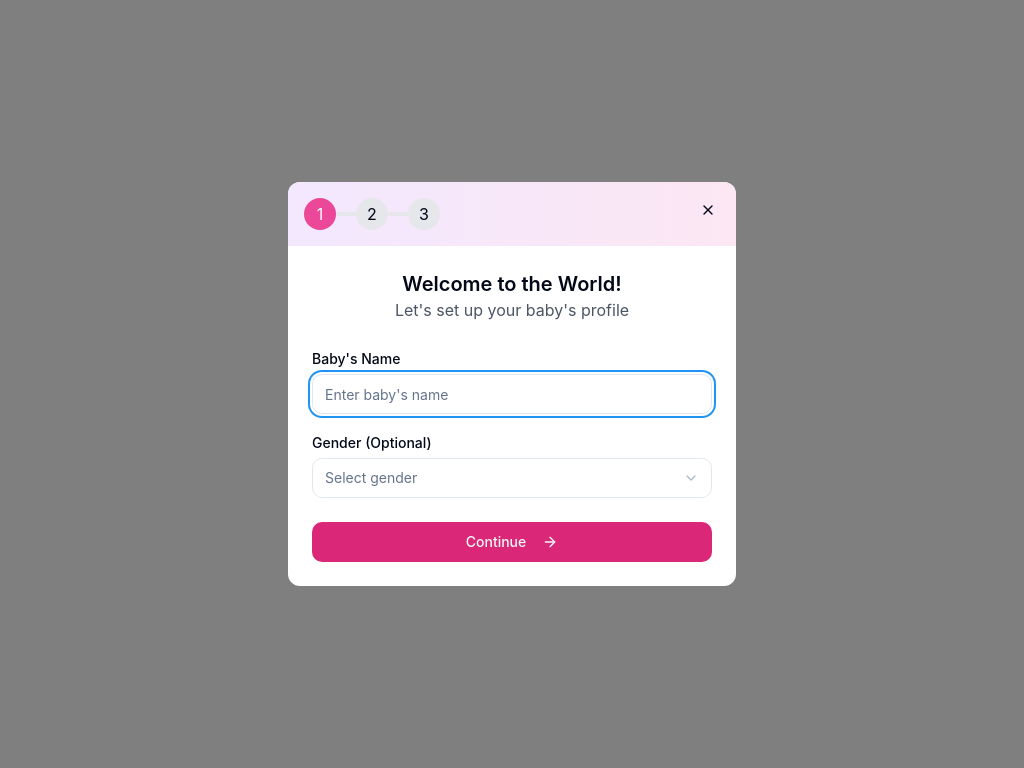
BirthTransition component - Full User Journey › can go back from step 2 to step 1
// Enter baby name and proceed to step 2
In the field labelled "Baby's Name": point(512, 394) [312, 374, 712, 414], type "Test Baby"
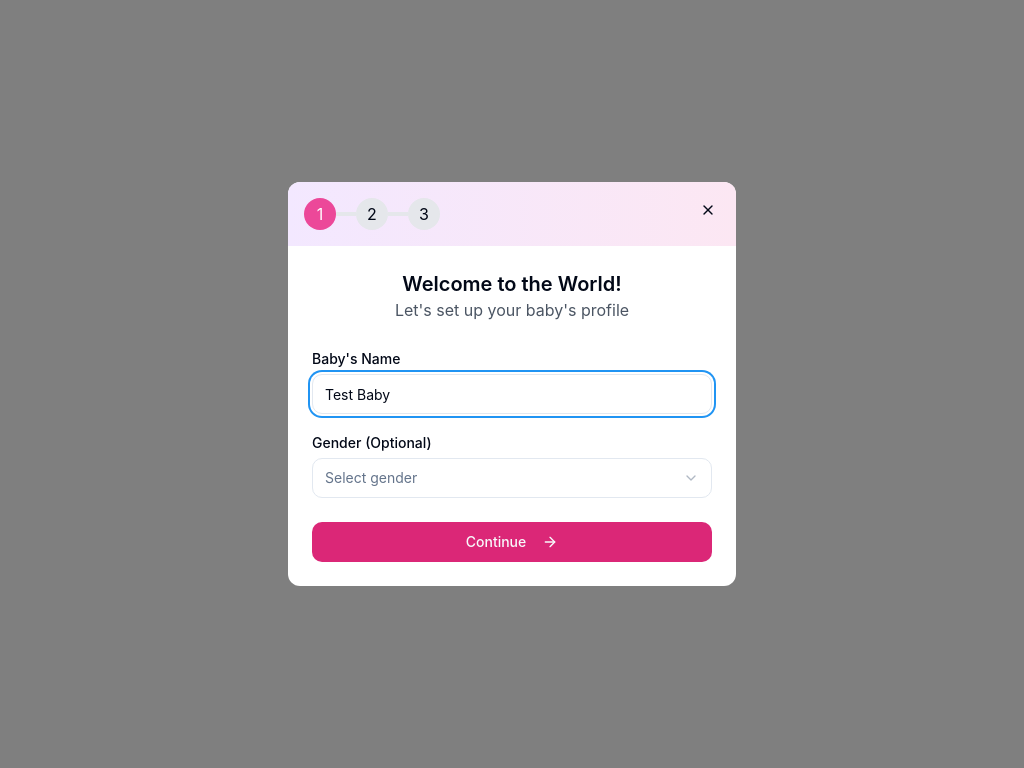
Click the button "Continue": point(512, 542) [312, 522, 712, 562]
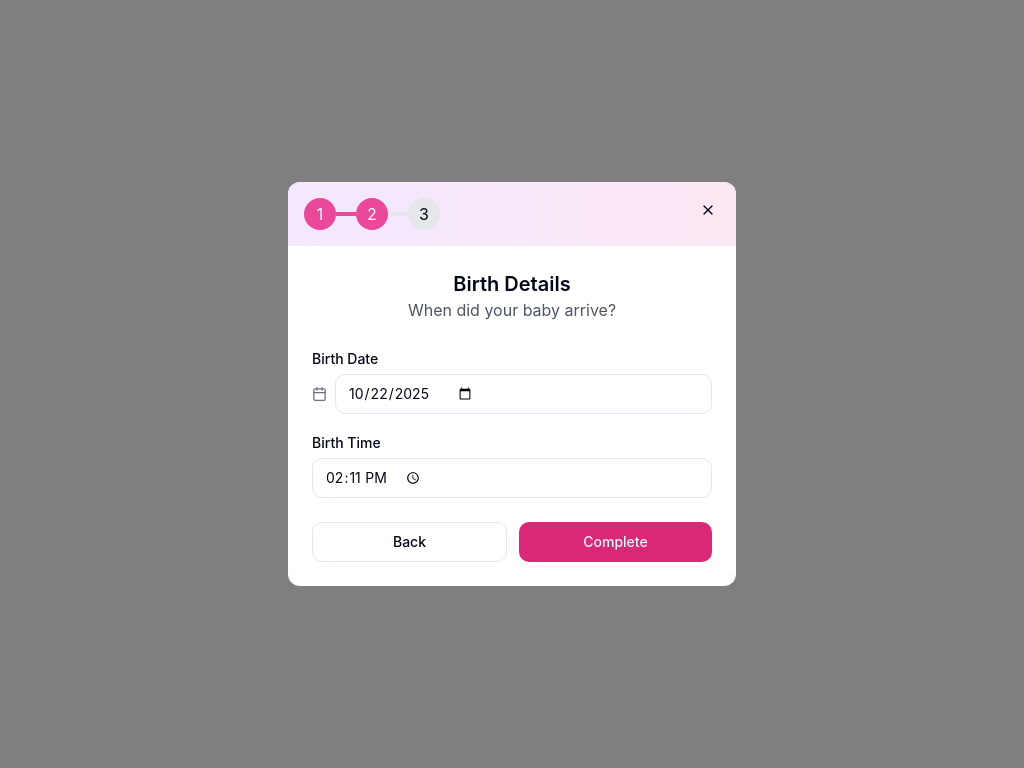
Expected: the heading "Birth Details" is shown, [453, 272, 571, 296]
// Click back
Click the button "Back": point(410, 542) [312, 522, 507, 562]
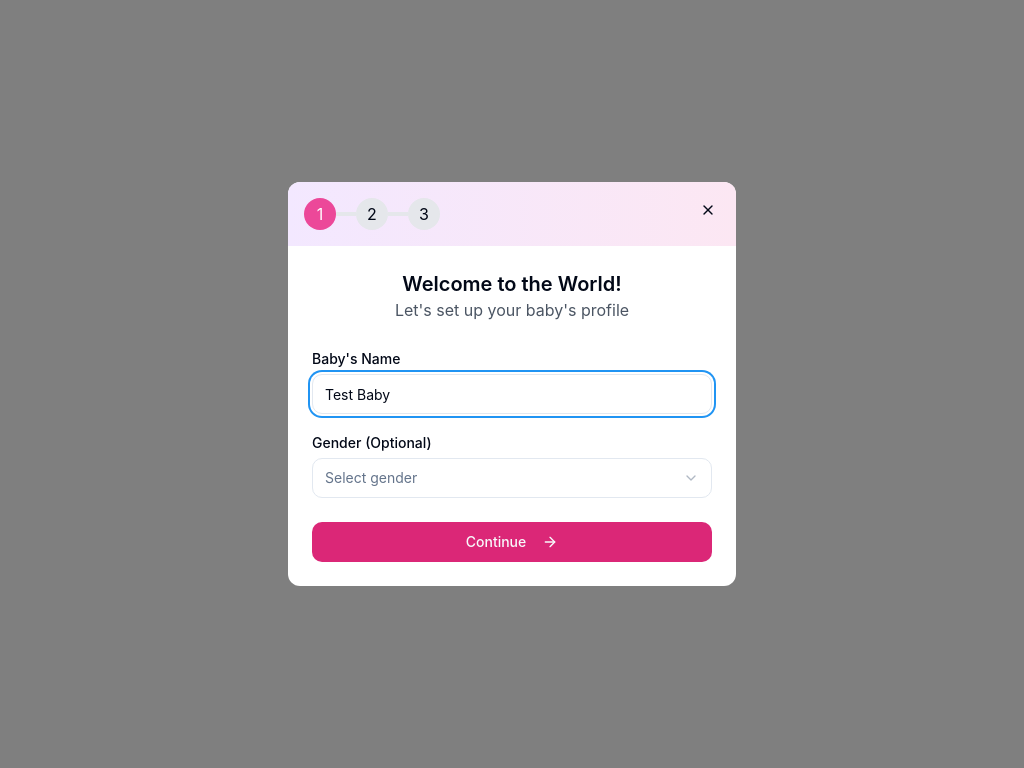
Expected: the heading "Welcome to the World!" is shown, [402, 272, 622, 296]
Expected: the field labelled "Baby's Name" holds "Test Baby", [312, 374, 712, 414]
